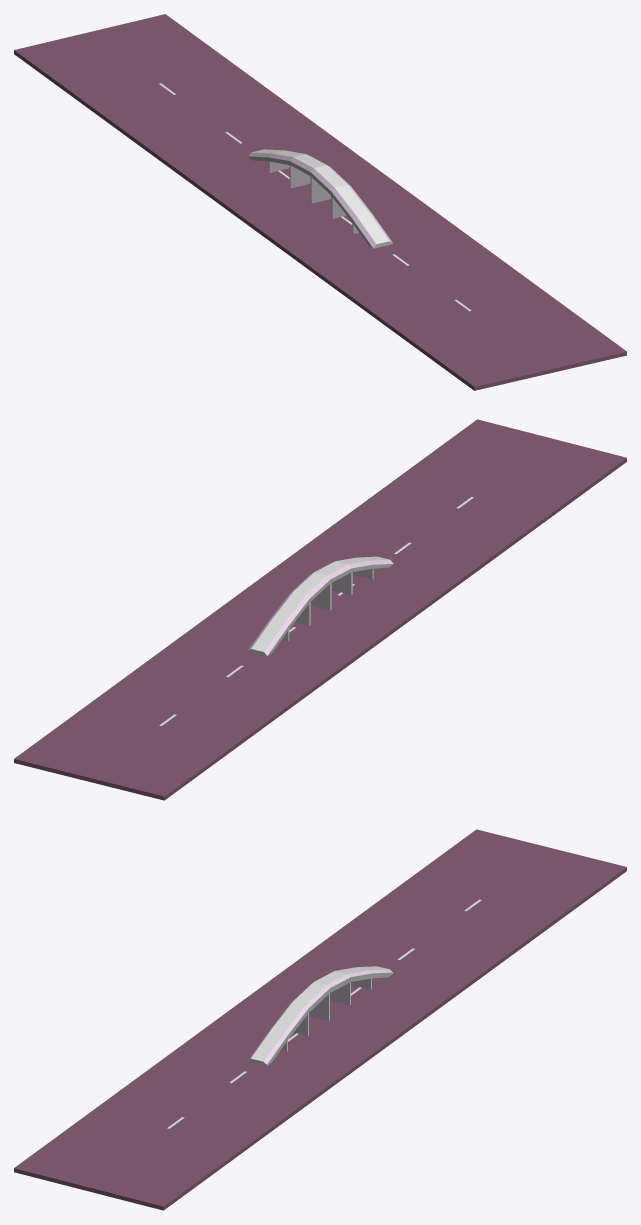
The model's file is Island_2.fbx.
3 views of the same model, one above another, from view 1: azimuth 30°, elevation 25°; view 2: azimuth 150°, elevation 25°; view 3: azimuth 330°, elevation 25° (orthographic).
Parts seen in each view (by area): view 1: TRAFFIC_FULL.031, Plane.003; view 2: TRAFFIC_FULL.031, Plane.003; view 3: TRAFFIC_FULL.031, Plane.003.
Boxes of the visible parts, x1,y1,x2,y2 form: TRAFFIC_FULL.031: [14, 14, 626, 390]; Plane.003: [247, 149, 392, 248]; TRAFFIC_FULL.031: [14, 419, 626, 800]; Plane.003: [247, 556, 393, 656]; TRAFFIC_FULL.031: [14, 829, 626, 1210]; Plane.003: [247, 966, 393, 1066].
Bounding box in the file's own units: 8.74 × 2.29 × 46.32.
